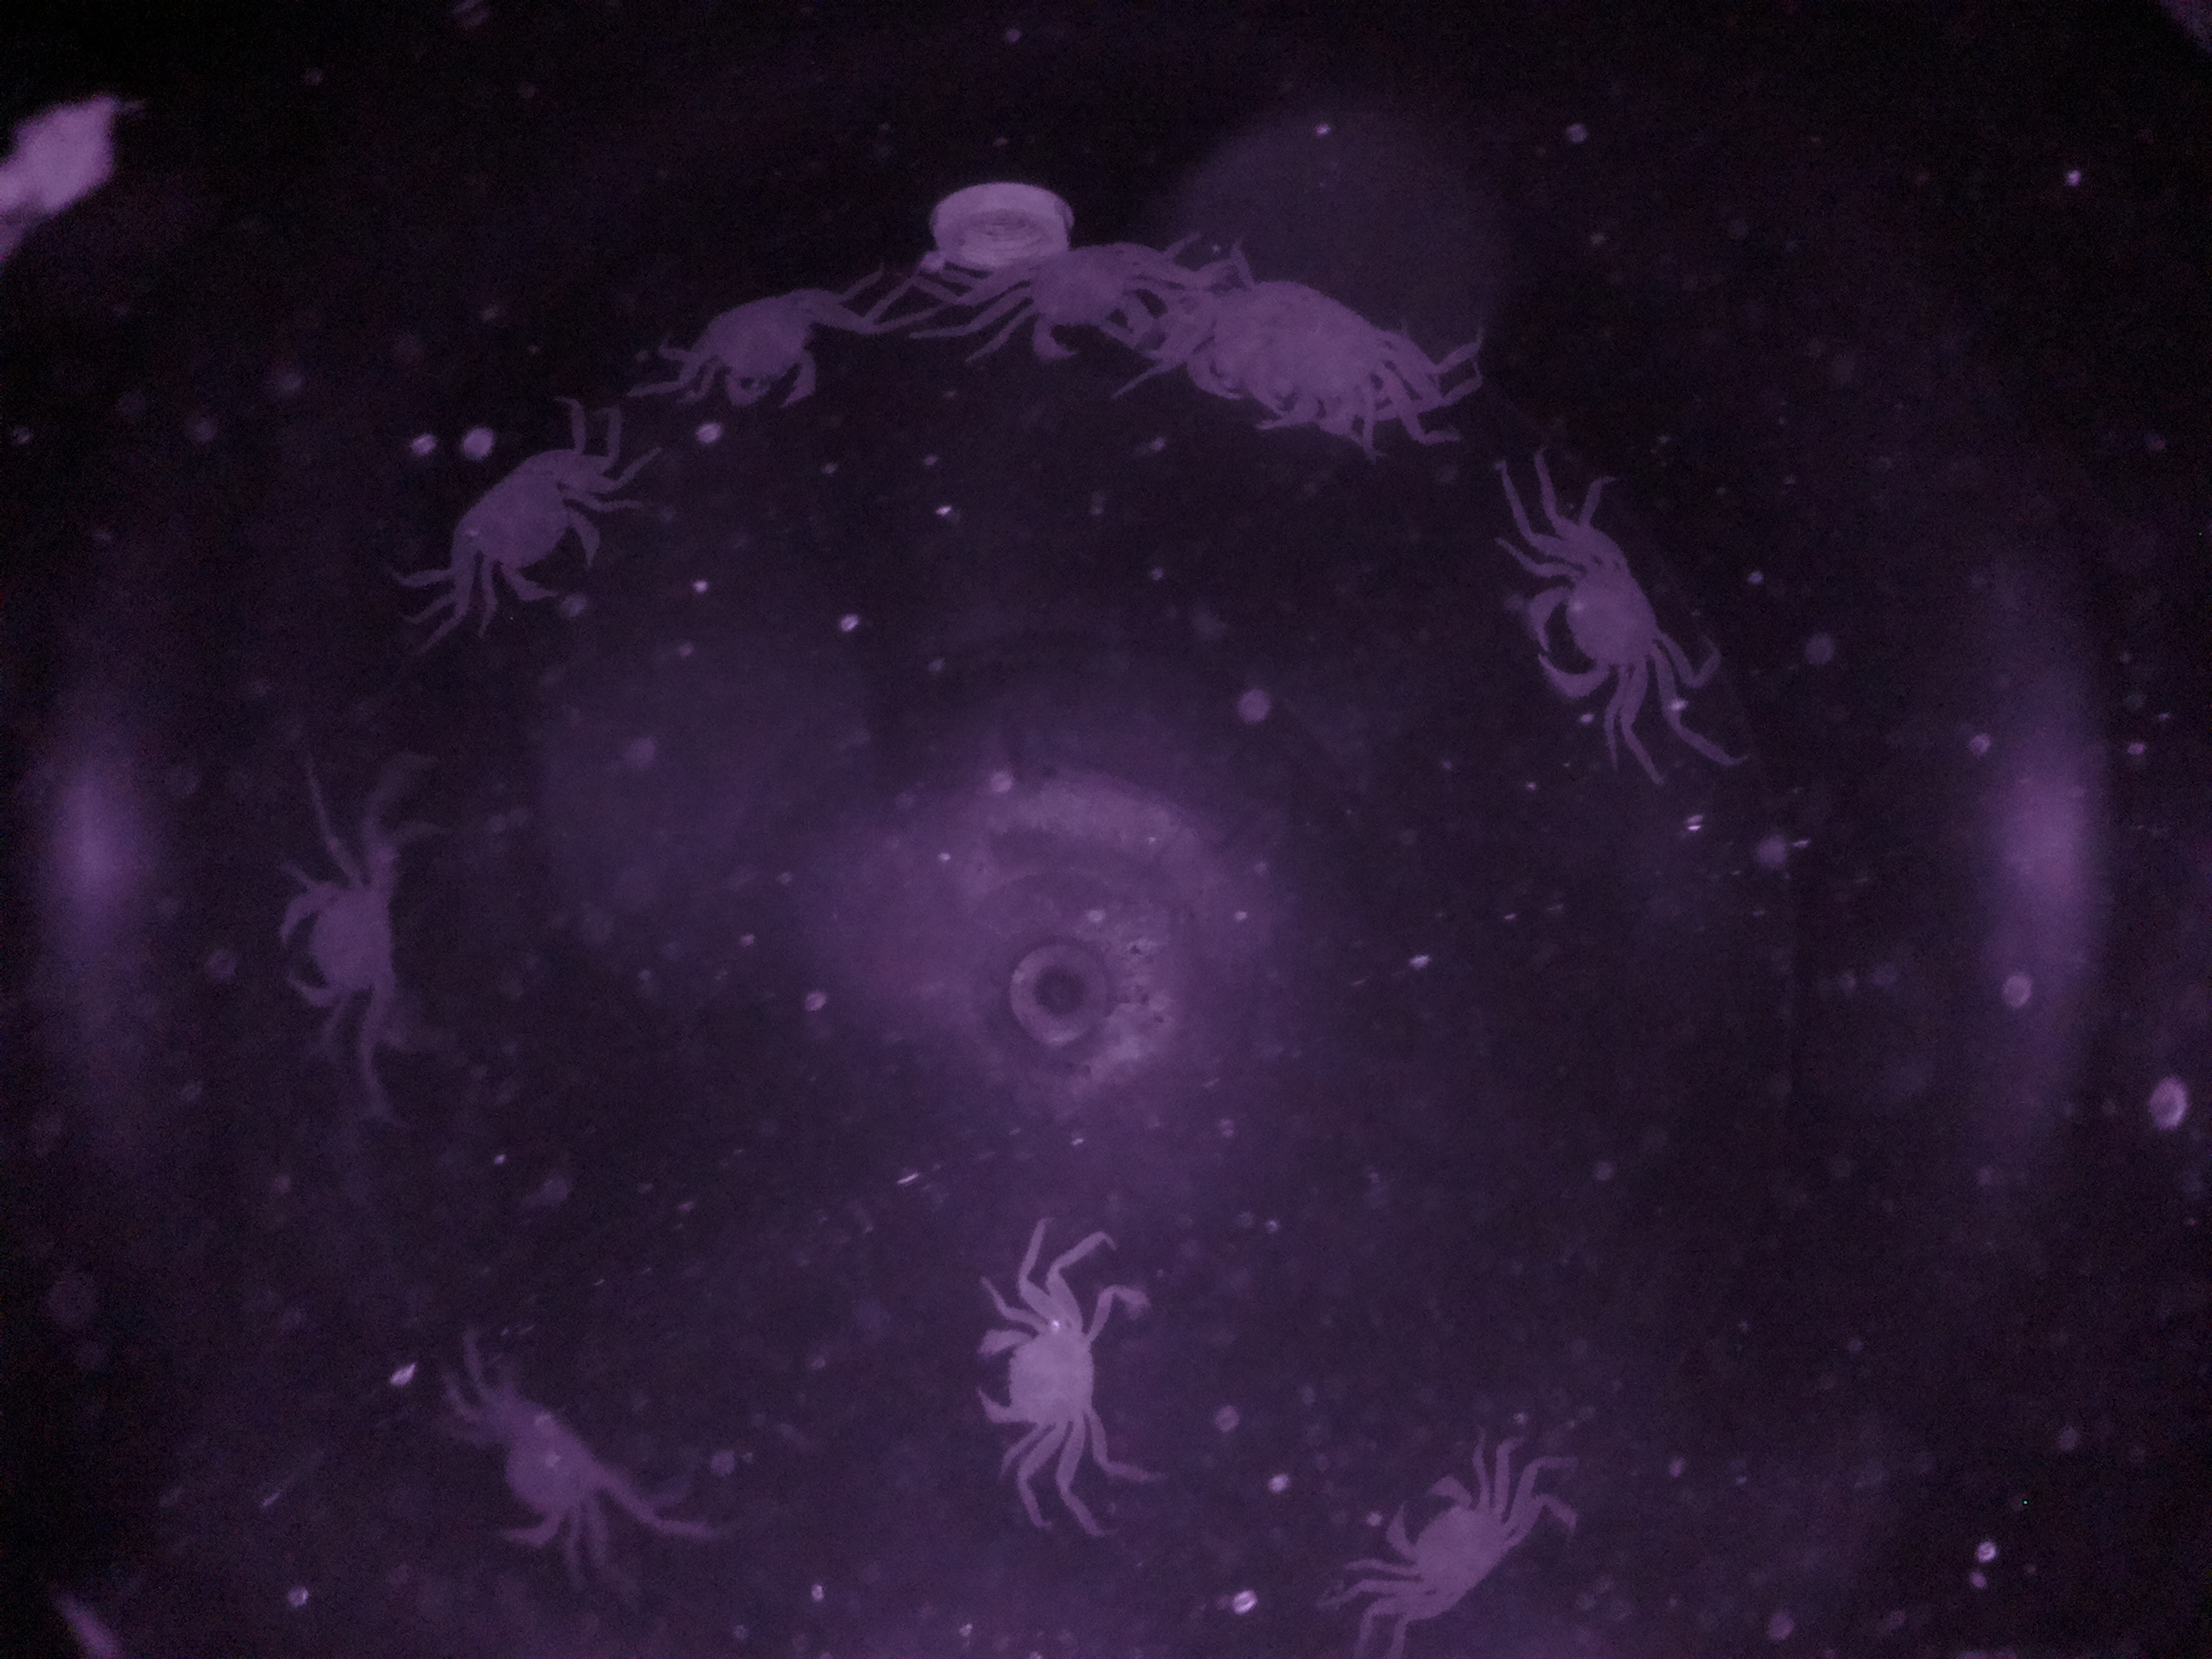Crab: (1514, 514, 1709, 735), (432, 420, 629, 615), (958, 1270, 1127, 1480), (270, 843, 446, 1030), (667, 260, 852, 430), (1362, 1446, 1538, 1624)
